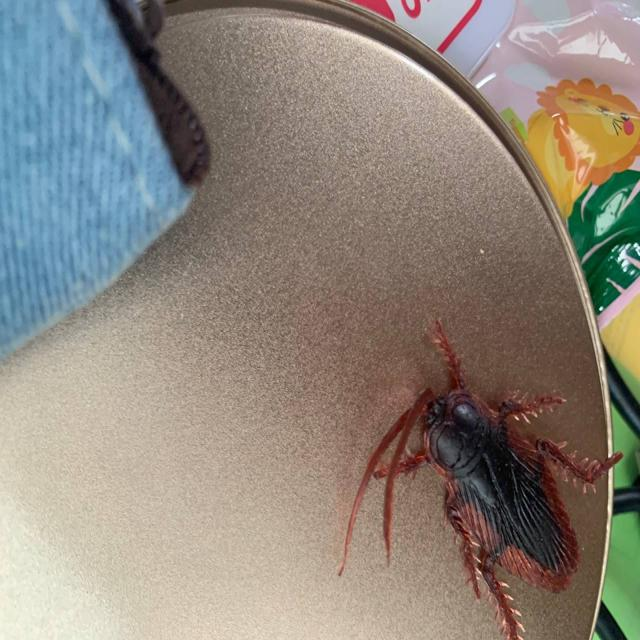Cockroach: (354, 315, 614, 628)
